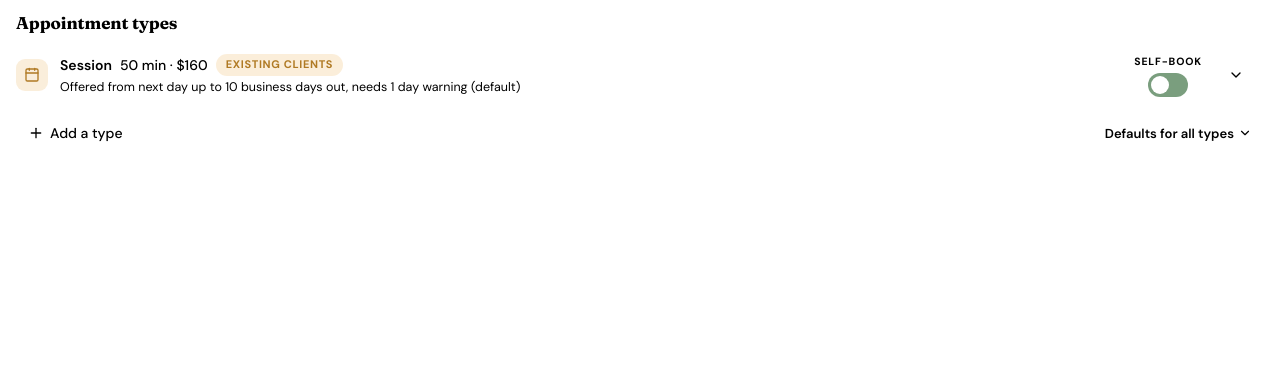
Test: AppointmentTypesCard — booking controls › shows the cutoffs once clients can book
What coordinates should you click on to do the following:
click the button "Defaults for all types"
I would click on:
 (1178, 133)
Its box is [1105, 124, 1252, 143].
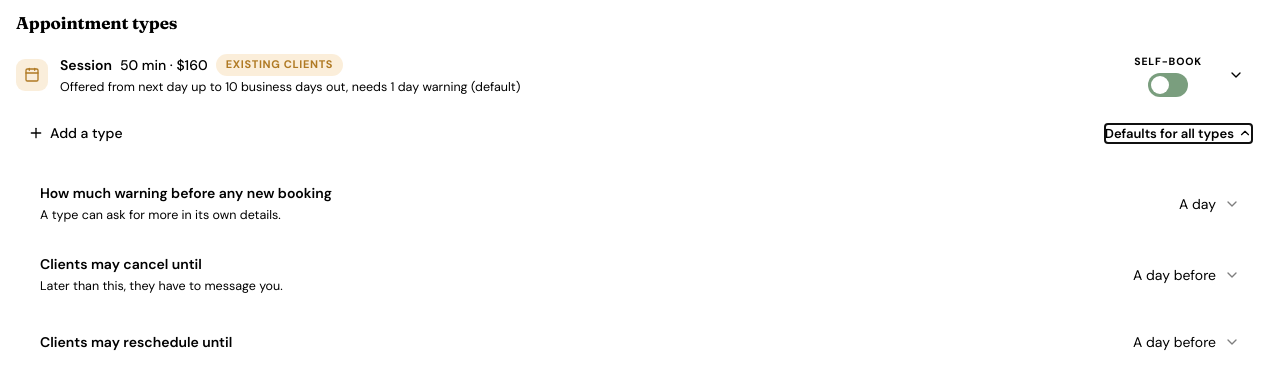
Expected: the text "Clients may cancel until" is shown, [40, 255, 202, 273]
Expected: the text "Clients may reschedule until" is shown, [40, 332, 232, 352]
